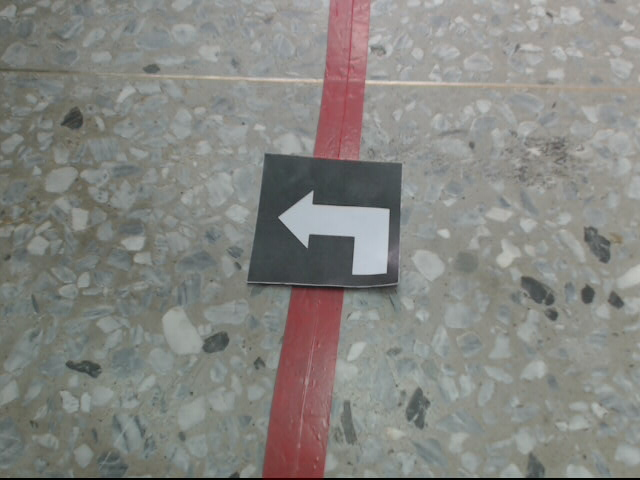left: (246, 151, 407, 290)
